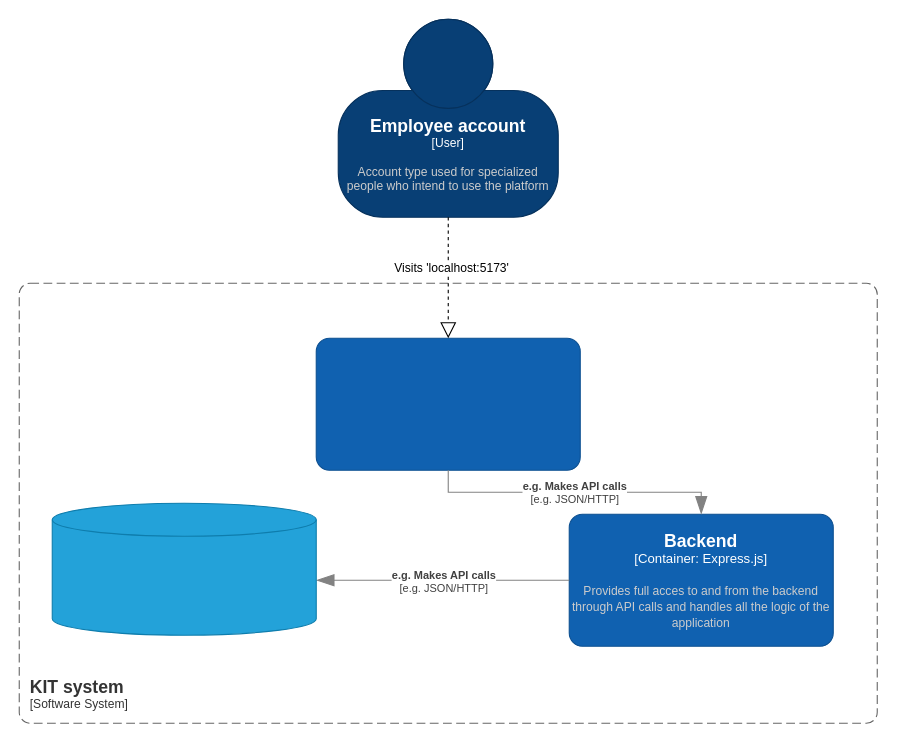
Image size: 897x743. Some labels were removed from this diagram. The centre of each missing label's shape, as x and y in pixels:
Database [Database: MySQL] Server side storage for all users: the point at 183,568
Web Application [React] Software used to sustain the online environment: the point at 447,403
